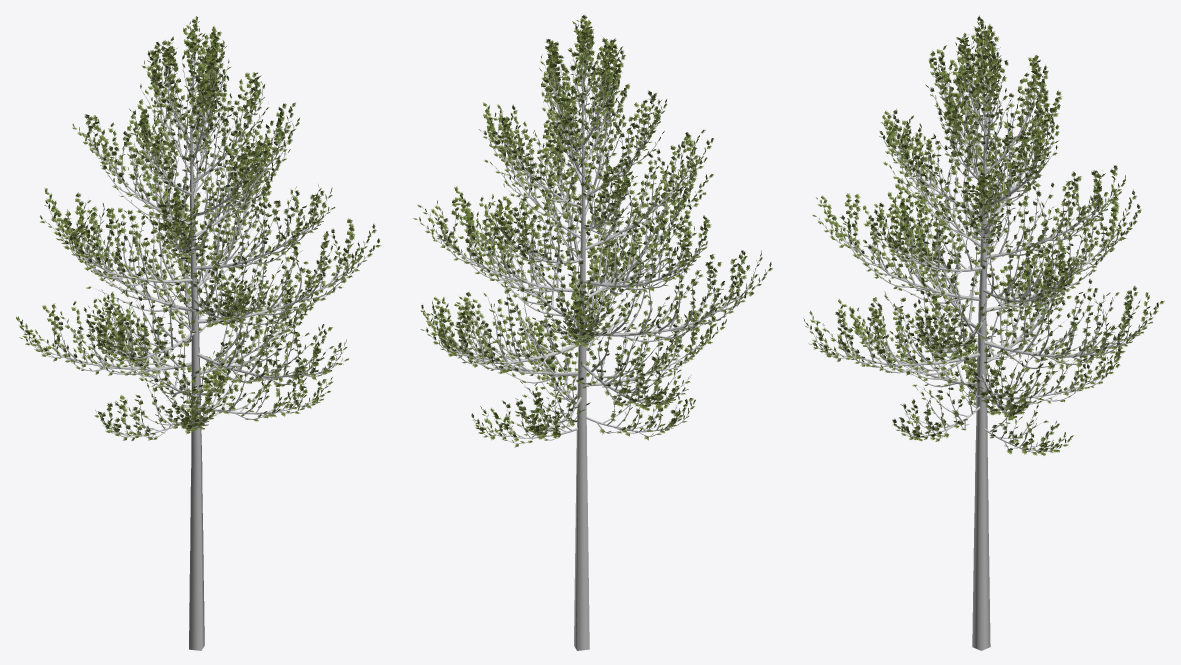
The model's file is Arbol3.fbx.
3 renders of one model, left to right at view 1: azimuth 30°, elevation 25°; view 2: azimuth 150°, elevation 25°; view 3: azimuth 270°, elevation 25°, orthographic.
Parts seen in each view (by area): view 1: leaves.002, tree.002; view 2: leaves.002, tree.002; view 3: leaves.002, tree.002.
Part boxes in pixels (x1,y1,x2,y2): leaves.002: (16,16,380,440); tree.002: (19,27,376,650); leaves.002: (413,15,772,447); tree.002: (419,22,768,650); leaves.002: (803,15,1164,455); tree.002: (807,23,1156,650).
Size of the model in its own units: 9.1 by 18.14 by 9.48.
